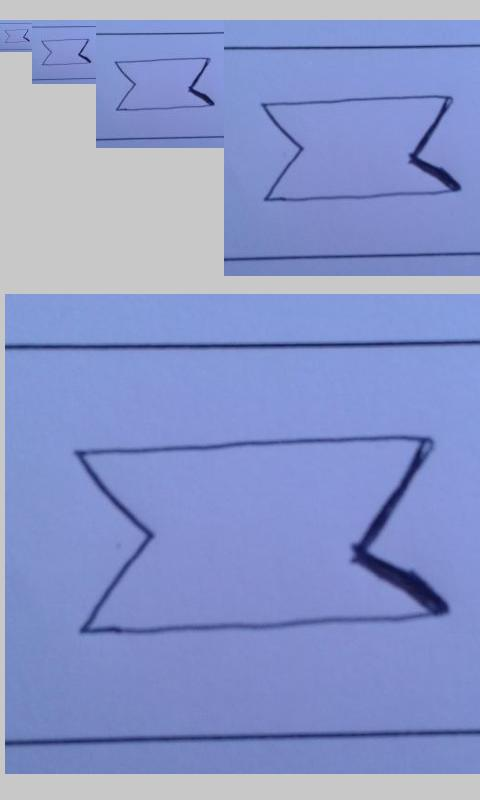edit_text: (74, 434, 447, 639), (260, 94, 460, 202), (114, 57, 216, 111), (41, 38, 91, 66), (4, 28, 30, 44)
